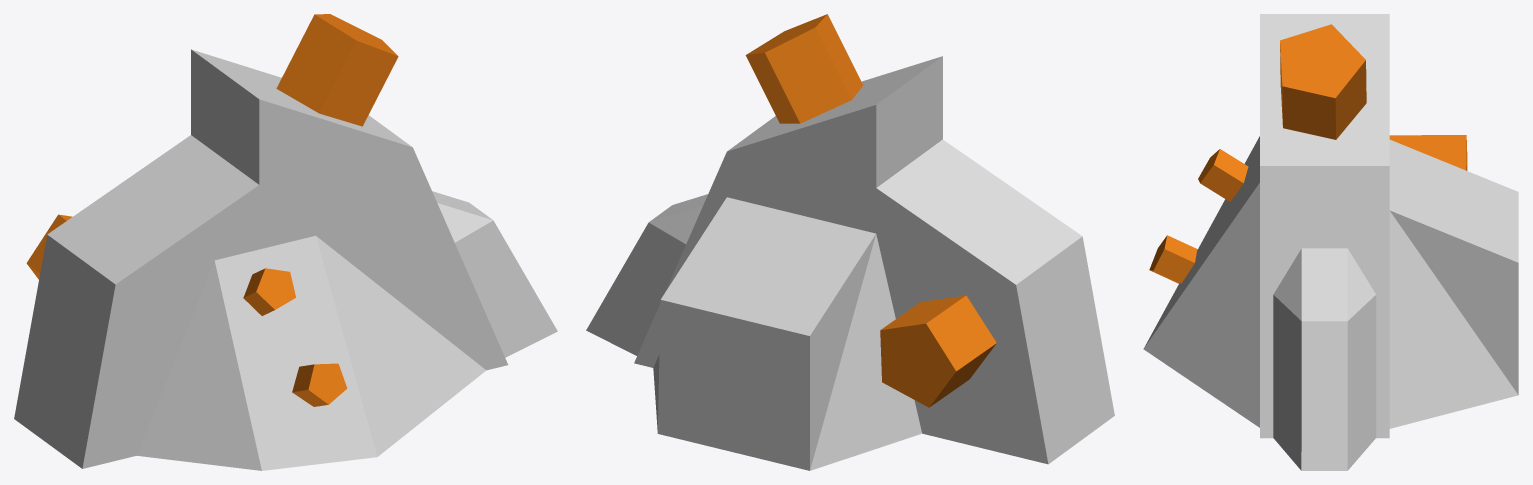
File: Bronce_Tipo2.fbx
The picture shows the model from 3 angles, left to right: view 1: azimuth 30°, elevation 25°; view 2: azimuth 150°, elevation 25°; view 3: azimuth 270°, elevation 25°; orthographic projection. The views are drawn at different scales.
Parts seen in each view (by area): view 1: base.011, cobre.001, cobre.004, cobre.003, cobre.002; view 2: base.011, cobre.002, cobre.001; view 3: base.011, cobre.001, cobre.003, cobre.002, cobre.004.
Part boxes in pixels (box(x1,y1,x2,y2)): base.011: box(14, 49, 557, 470); cobre.001: box(276, 14, 398, 126); cobre.004: box(292, 363, 347, 406); cobre.003: box(243, 268, 295, 315); cobre.002: box(26, 214, 72, 279); base.011: box(586, 56, 1114, 470); cobre.002: box(880, 295, 996, 407); cobre.001: box(745, 14, 863, 123); base.011: box(1143, 14, 1518, 470); cobre.001: box(1280, 24, 1366, 139); cobre.003: box(1198, 149, 1248, 201); cobre.002: box(1389, 135, 1467, 170); cobre.004: box(1149, 235, 1197, 283).
Bounding box in the file's own units: 140 × 97.2 × 96.69.
